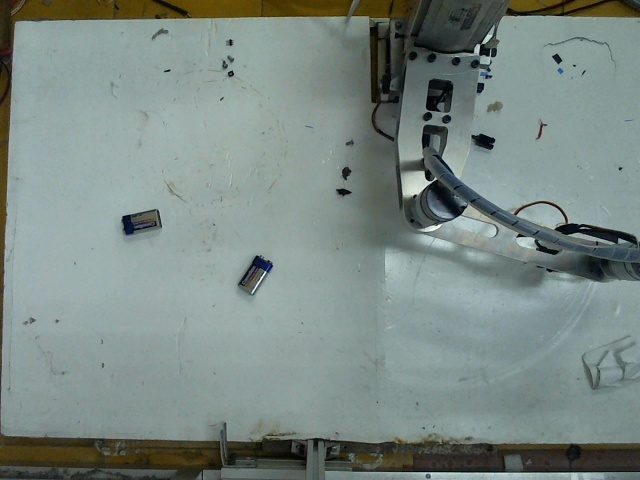battery: (237, 251, 276, 294), (115, 206, 166, 232)
